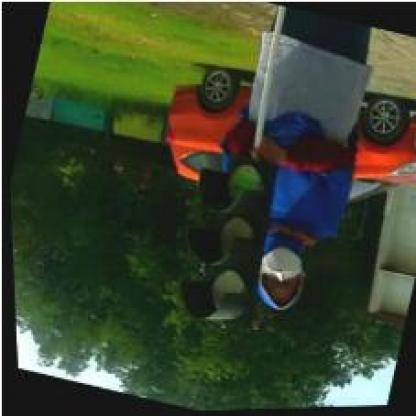green: (159, 146, 288, 330)
